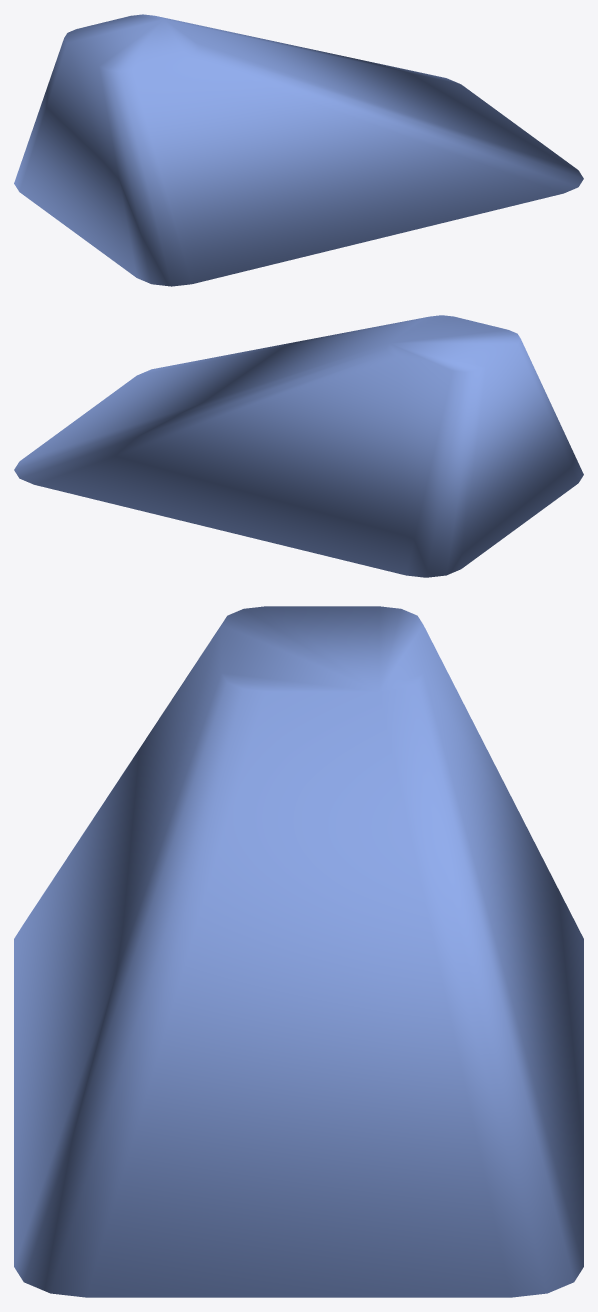
Rendered from ground.fbx.
The picture shows the model from 3 angles, top to bottom: view 1: azimuth 30°, elevation 25°; view 2: azimuth 150°, elevation 25°; view 3: azimuth 270°, elevation 25°; orthographic projection. The views are drawn at different scales.
Visible parts, largest first — view 1: Cube; view 2: Cube; view 3: Cube.
Boxes of the visible parts, left/top/right/bottom form: Cube: left=14, top=14, right=583, bottom=286; Cube: left=14, top=315, right=583, bottom=577; Cube: left=14, top=606, right=583, bottom=1297.
Size of the model in its own units: 137 by 51.11 by 84.6.
